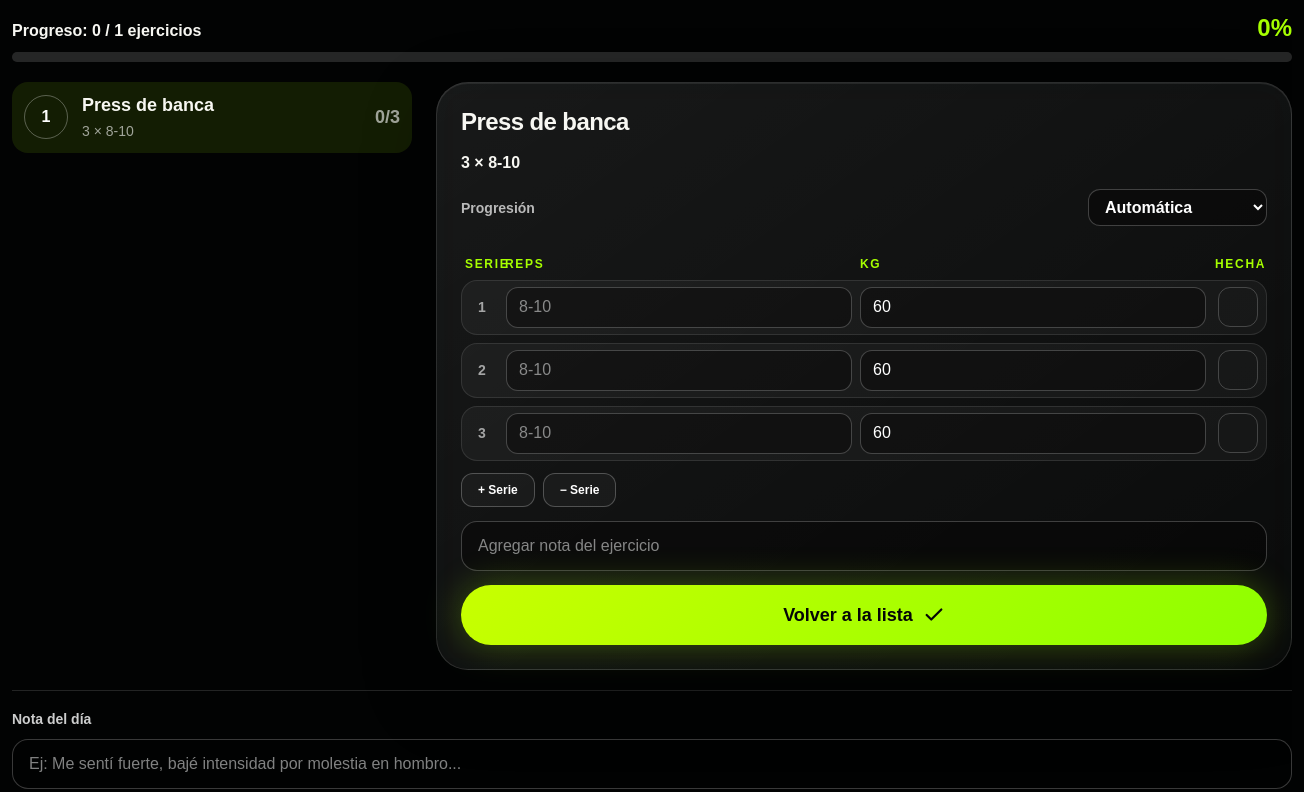
Scenario: DailyLogForm per-set logging › can add and remove sets
Click the button "+ Serie": [498, 490] box [461,472,535,506]
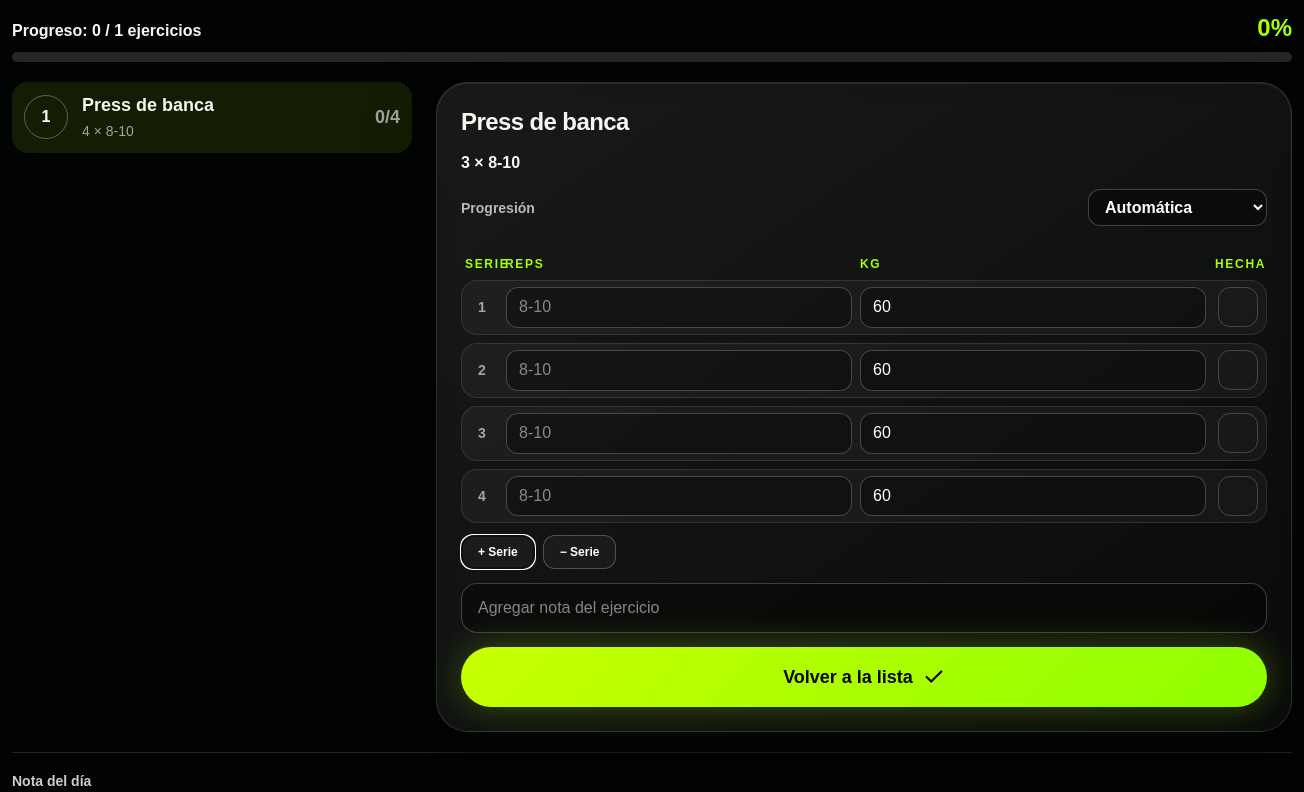
Expected: the number of list items is 4, [461,280,1267,335]; [461,343,1267,398]; [461,406,1267,460]; [461,468,1267,523]
Click the button "− Serie": [580, 552] box [543,535,616,569]
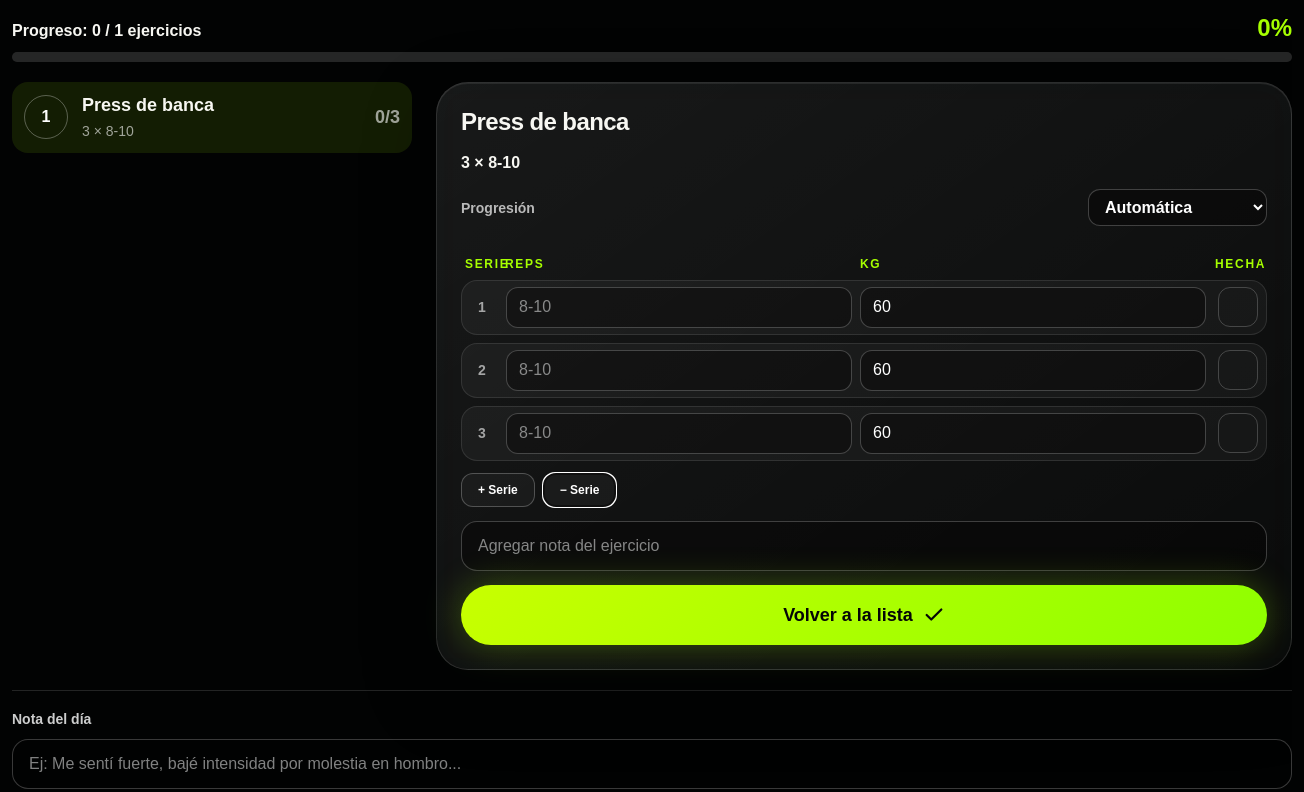
Click the button "− Serie": [580, 490] box [543,472,616,506]
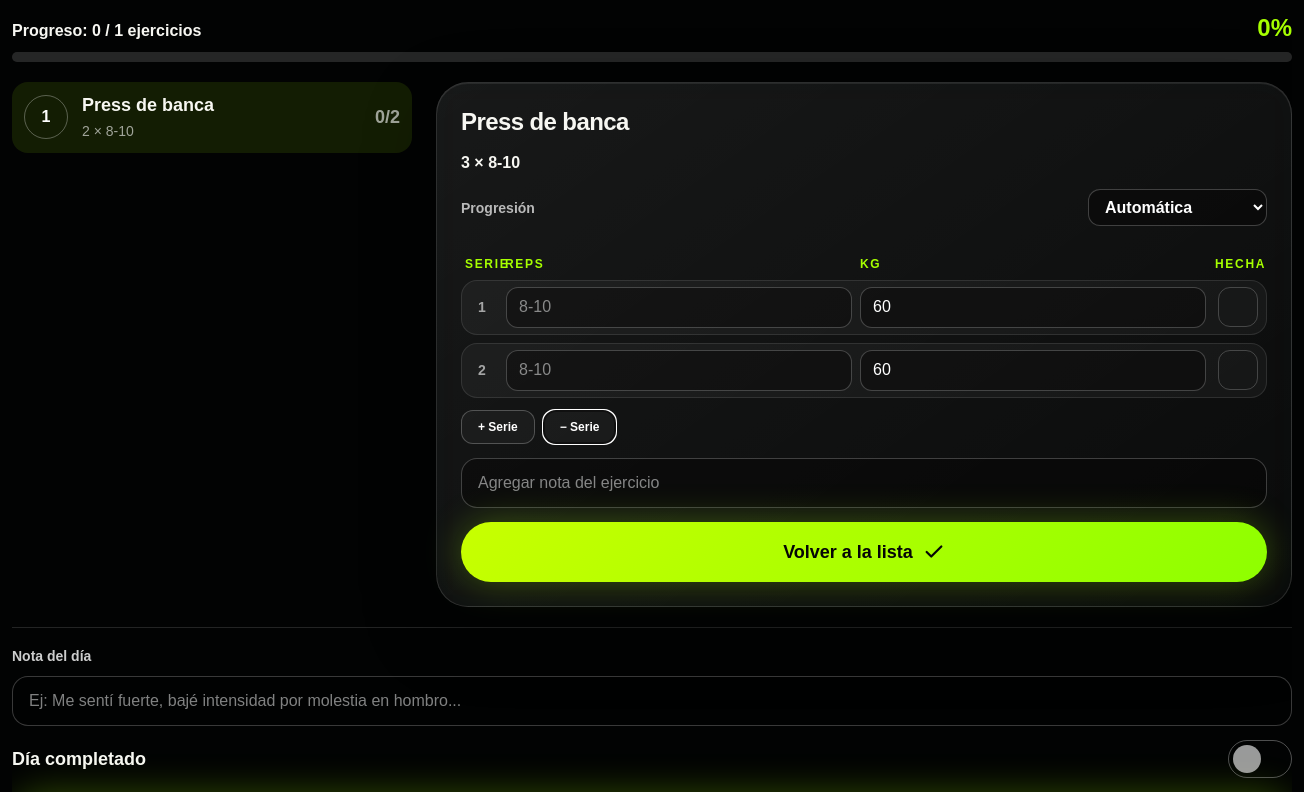
Expected: the number of list items is 2, [461,280,1267,335]; [461,343,1267,398]
